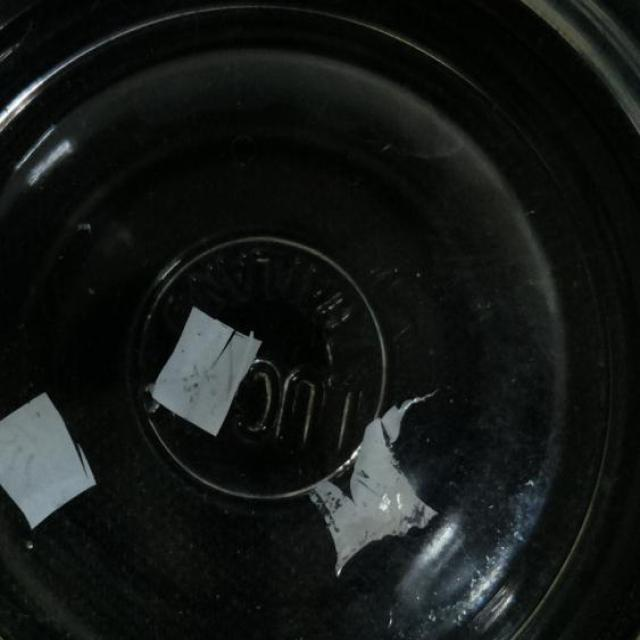fiber: (310, 377, 444, 584), (149, 305, 266, 442), (0, 389, 101, 535)
